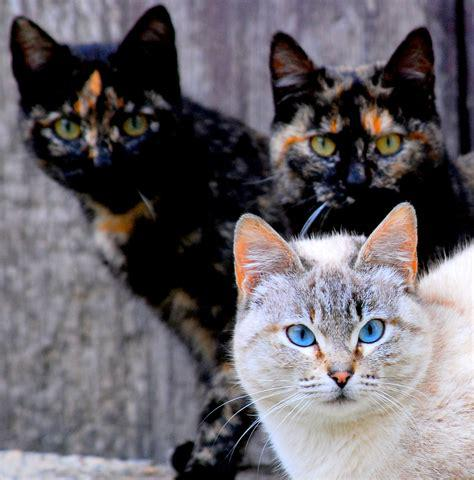cat: (9, 5, 267, 480), (234, 202, 474, 480), (268, 27, 472, 240)
